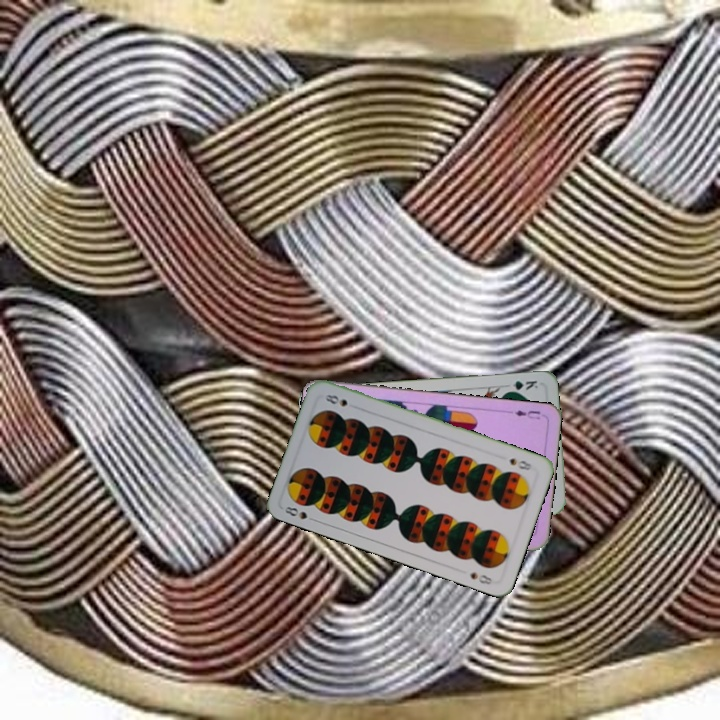EU: (510, 406, 542, 422)
GK: (502, 376, 541, 395)
S8: (281, 502, 319, 524), (505, 454, 535, 473)
